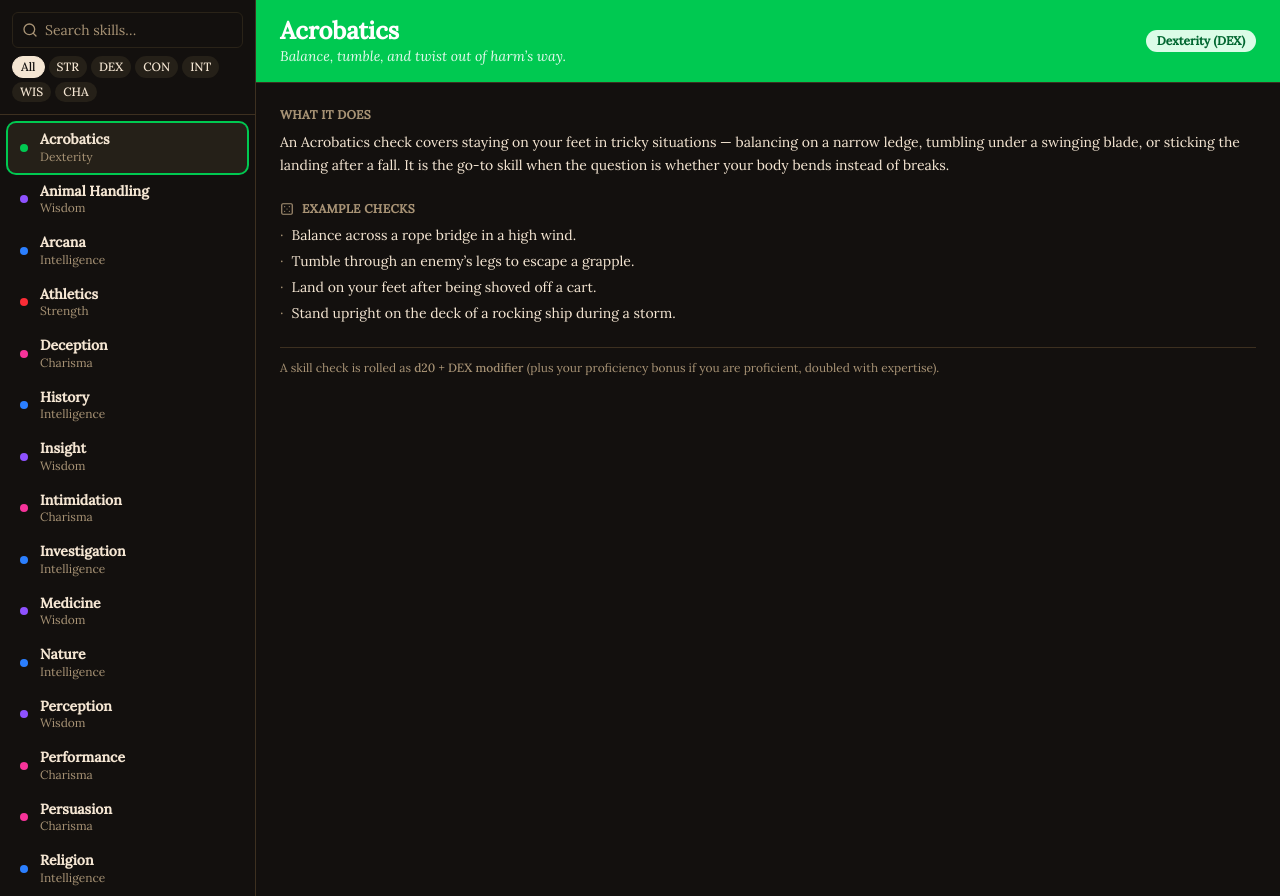
SkillsTab › shows the full description for the selected skill
The image size is (1280, 896).
Click the button with test id "skill-row-Arcana": click(128, 251) 8,226 -> 247,276
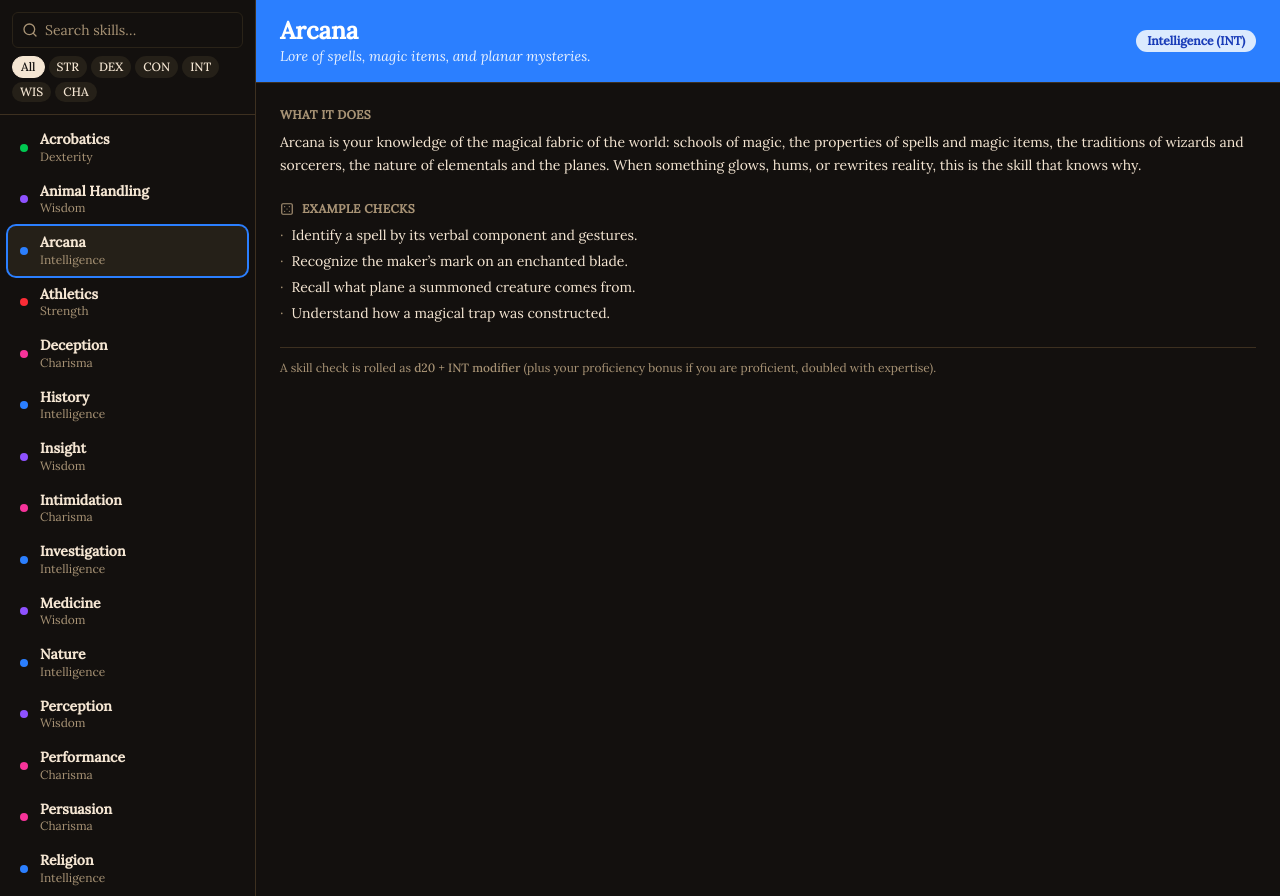
Expected: the element with test id "skill-detail" shows "knowledge of the magical fabric", 280,133 -> 1244,174
